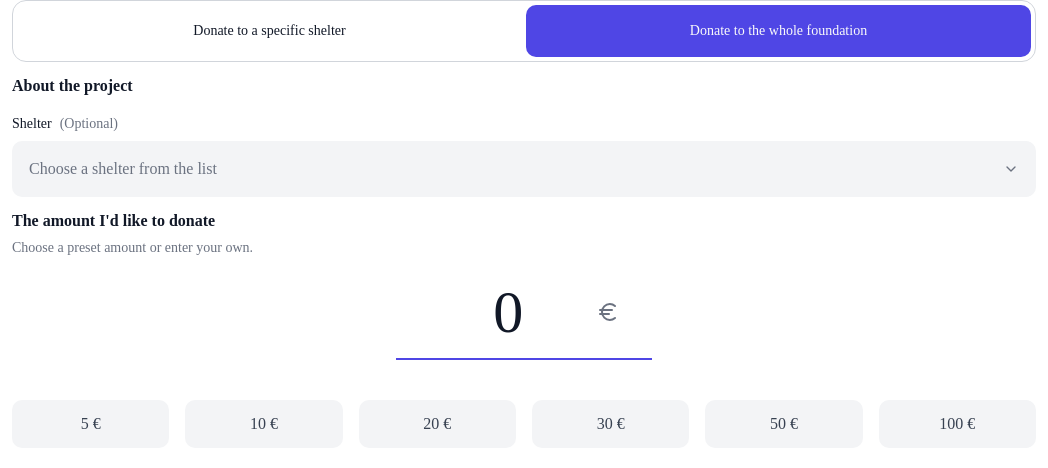
Test: ShelterStep › sets the amount when a preset is clicked
Click the radio button named "20 euros": x=437, y=424 x1=359 y1=400 x2=516 y2=448
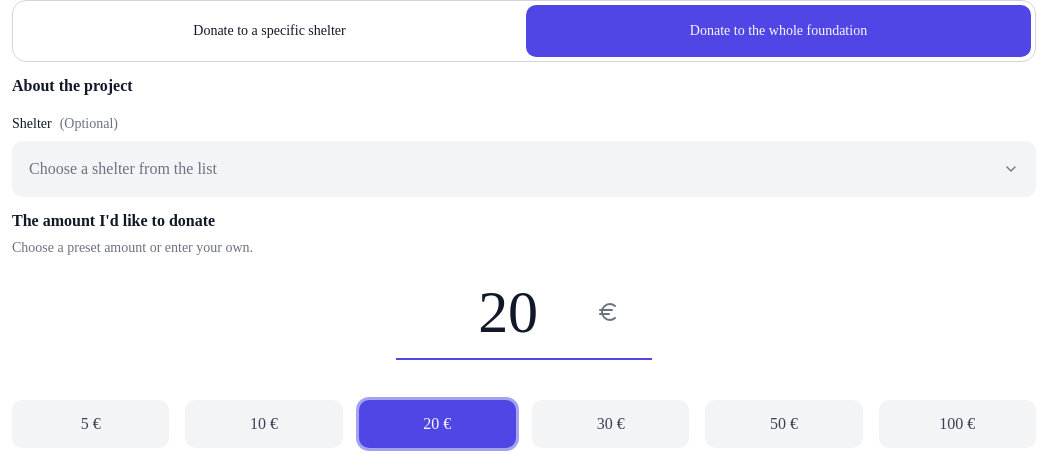
Expected: the field with placeholder "0" holds "20", x1=428 y1=276 x2=588 y2=348
